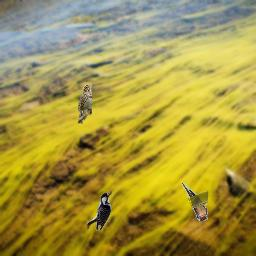Sparrow: (78, 84, 92, 124)
Swallow: (182, 183, 208, 221)
Woodpecker: (87, 191, 112, 231)
